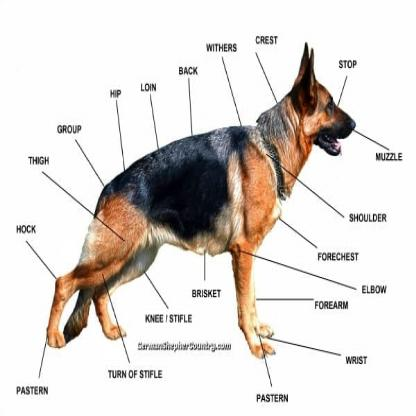dog: (39, 39, 357, 359)
